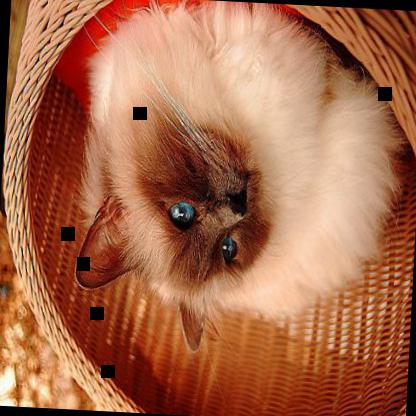cat: (70, 0, 404, 363)
